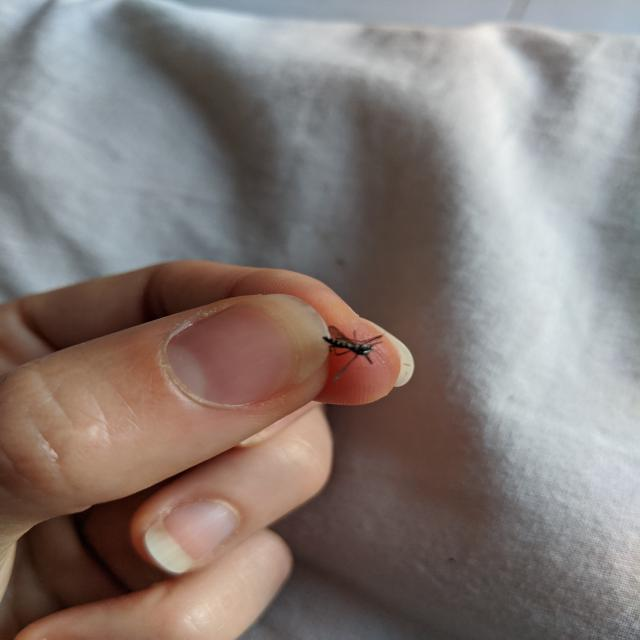albopictus: (315, 321, 390, 374)
